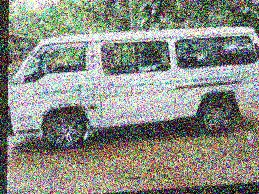van: (7, 16, 259, 159)
